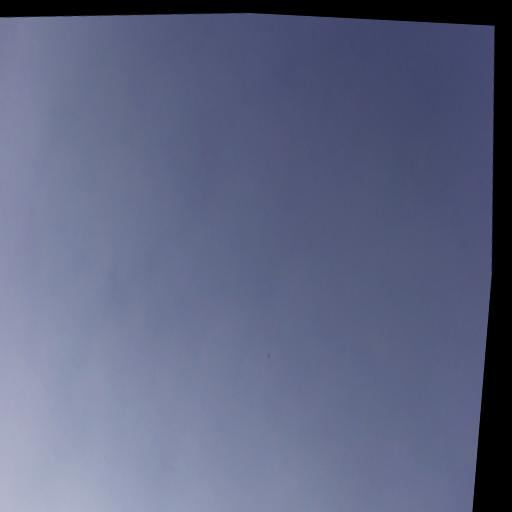drones: (267, 352, 272, 360)
